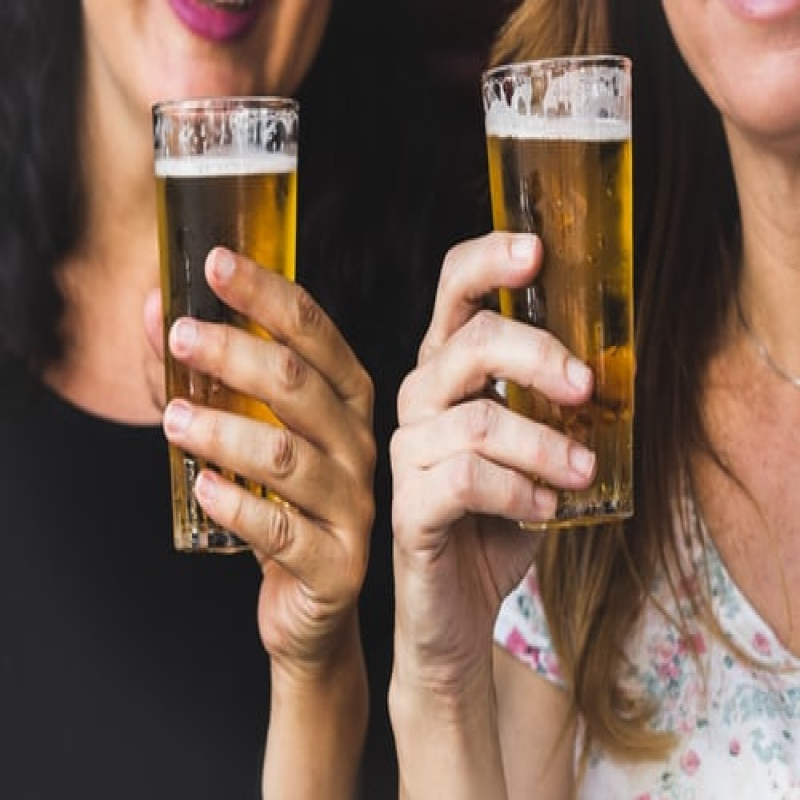whiskey: (160, 94, 308, 558), (506, 53, 642, 537)
